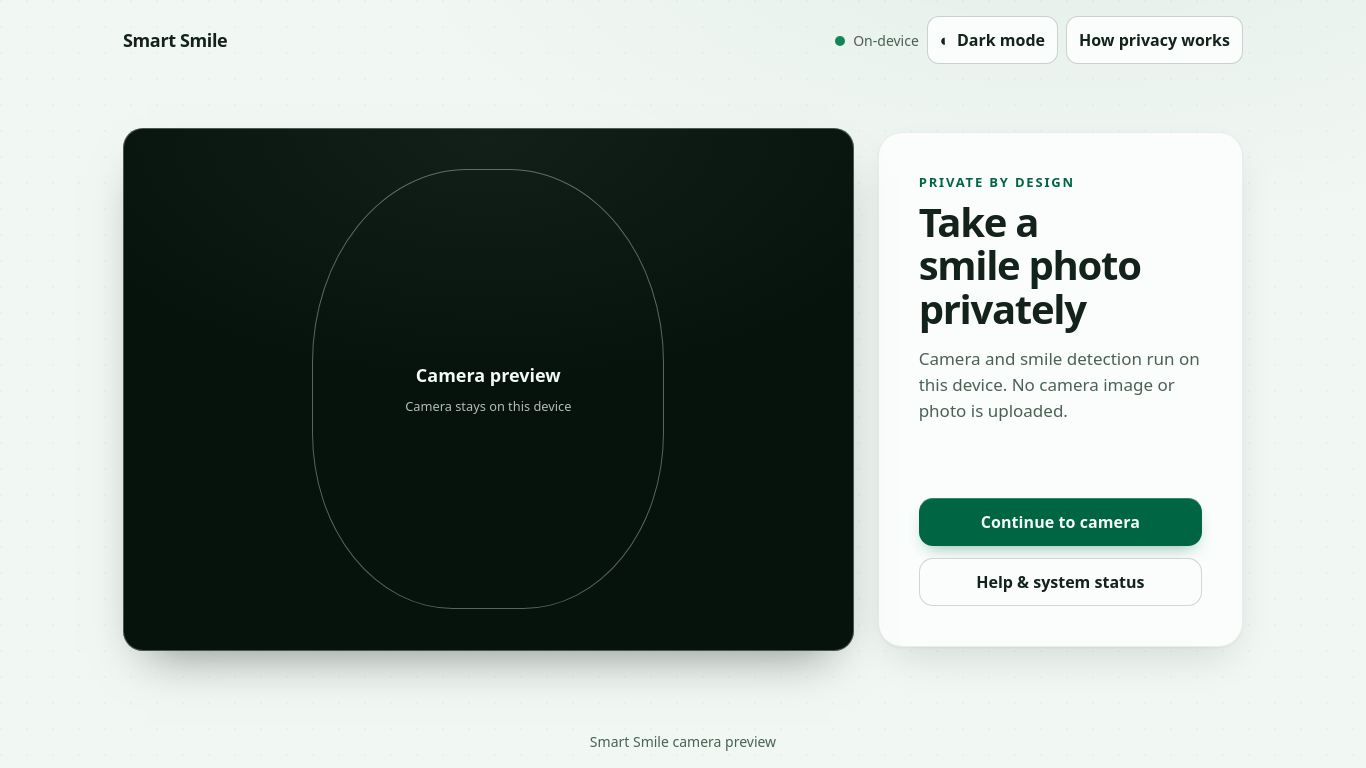
it: Smart Smile camera session › offers plain-language recovery after a browser permission denial
This screenshot has width=1366, height=768.
What coordinates should you click on to do the following:
click the button "Continue to camera"
I would click on:
 (1060, 522)
Its box is [919,498,1202,546].
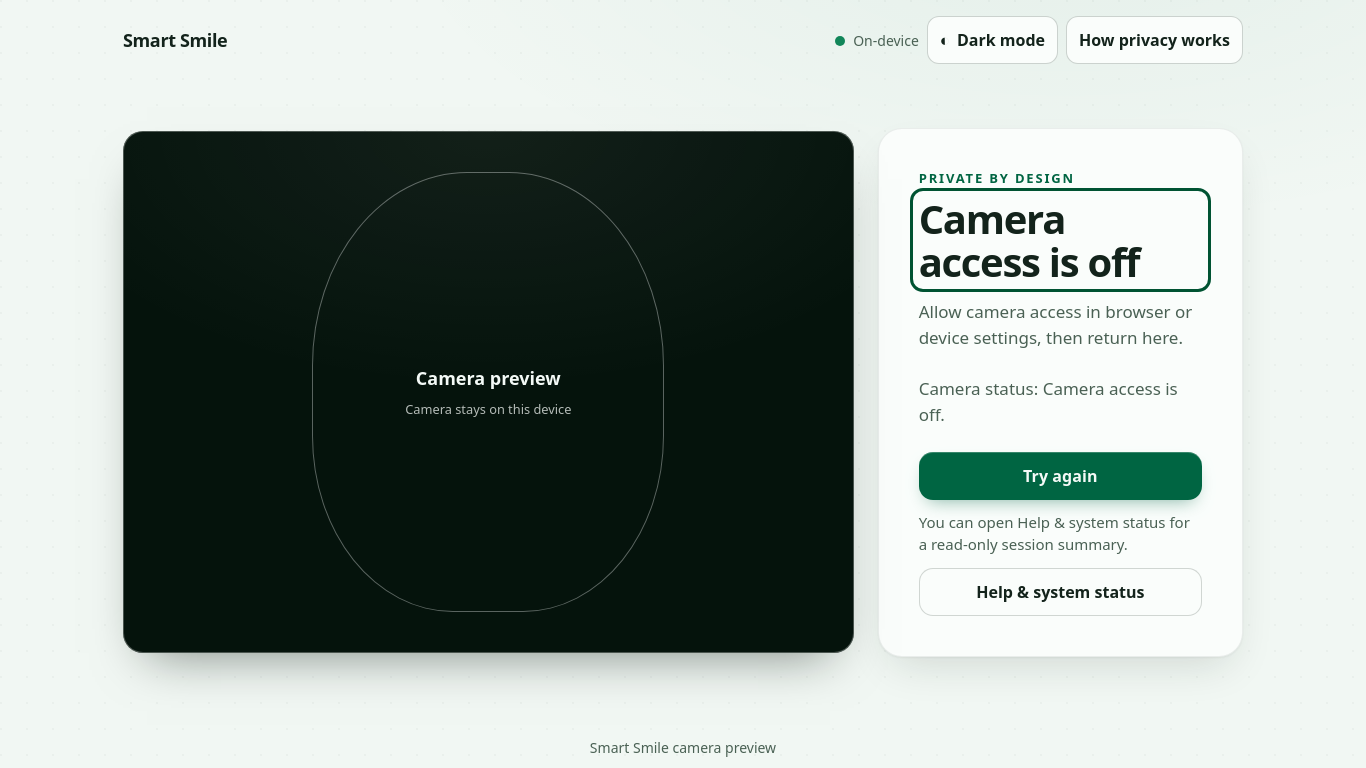
Expected: the button "Try again" is enabled, [919,452,1202,500]
Result: the heading "Camera access is off" is shown at [919,190,1139,289]
Result: the text "Allow camera access in browser or device settings, then return here." is shown at [919,299,1202,352]
